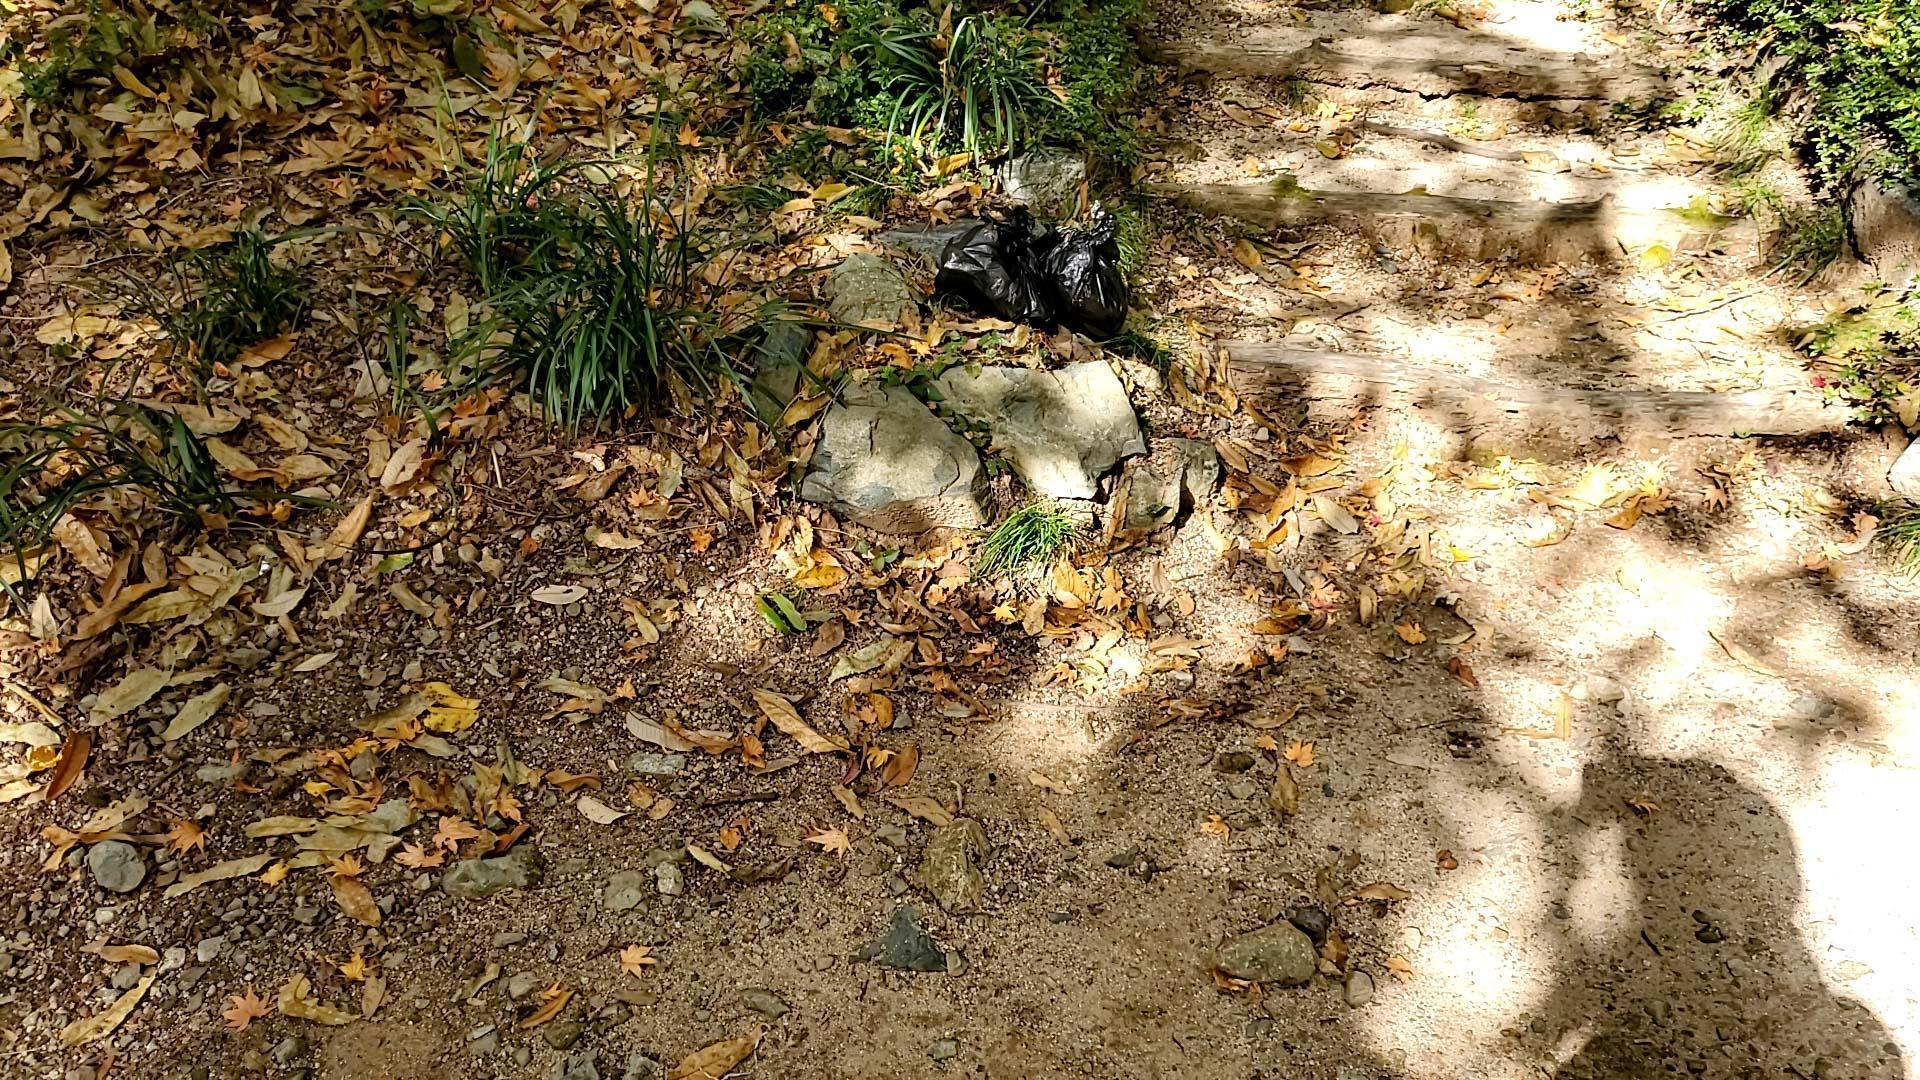black_bag: (927, 193, 1065, 338), (1035, 194, 1135, 342)
